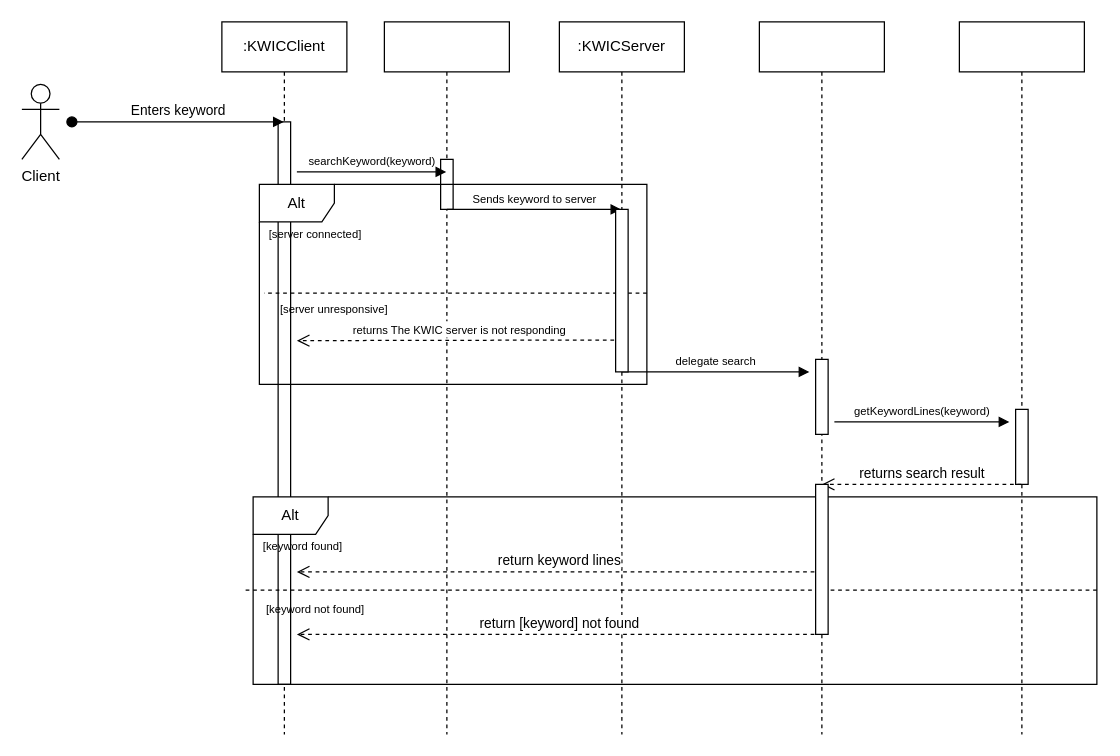
Image size: 1120x756. Some labels were removed from this diagram. Here are the shapes that lost their labels. From the top down, the box of each, then its label:
(383, 21, 509, 734): :ClientHandler
(758, 21, 884, 734): :ClientSession
(958, 21, 1084, 734): :KeywordSearch
